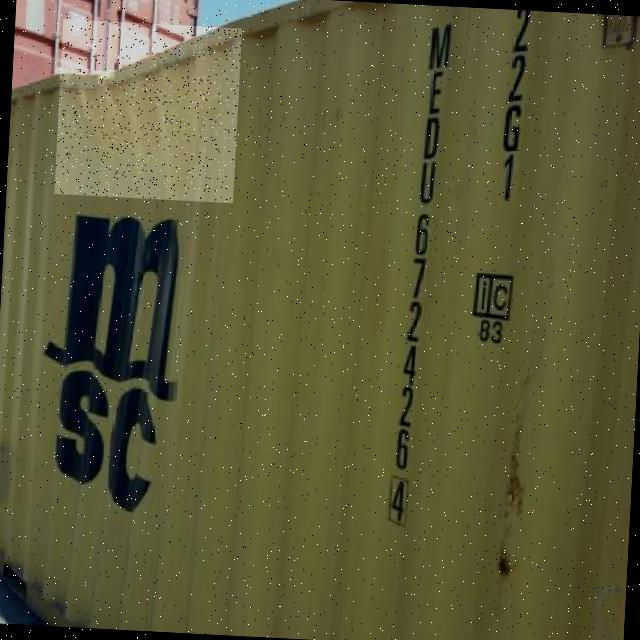Deframe: (54, 19, 242, 203)
